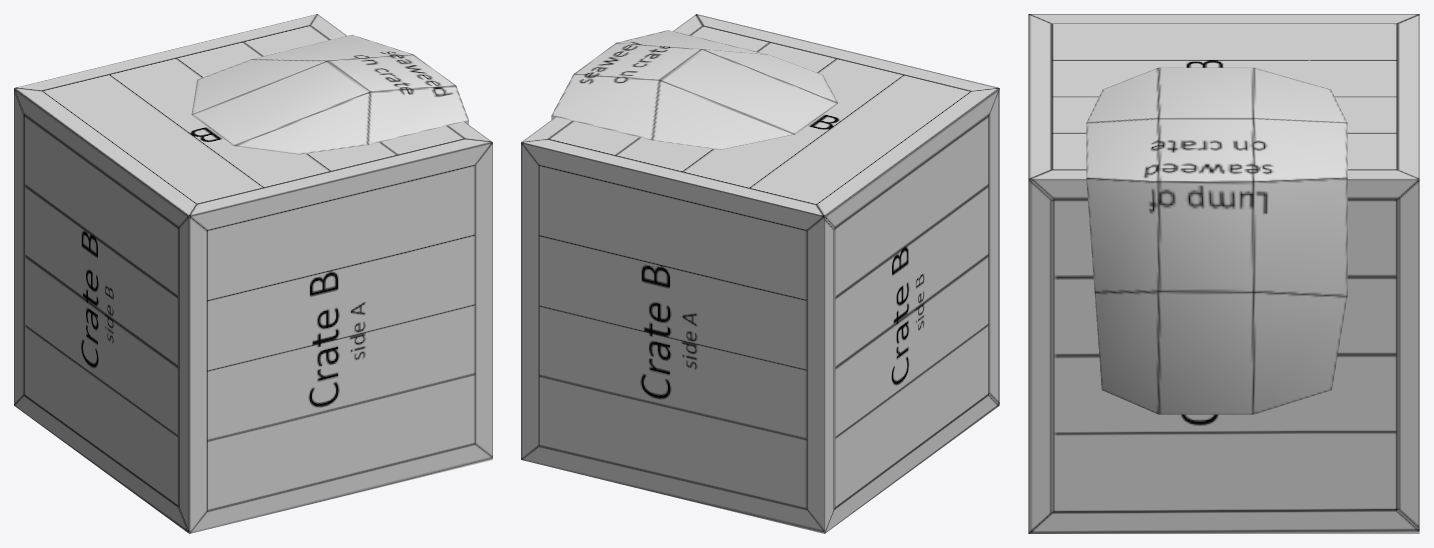
Rendered from Crate_seaweed01.fbx.
3 renders of one model, left to right at view 1: azimuth 30°, elevation 25°; view 2: azimuth 150°, elevation 25°; view 3: azimuth 270°, elevation 25°, orthographic. The views are drawn at different scales.
Parts seen in each view (by area): view 1: Crate_seaweed01; view 2: Crate_seaweed01; view 3: Crate_seaweed01.
Boxes of the visible parts, x1=… form: Crate_seaweed01: x1=14, y1=14, x2=492, y2=533; Crate_seaweed01: x1=521, y1=14, x2=999, y2=533; Crate_seaweed01: x1=1028, y1=14, x2=1419, y2=533.
Bounding box in the file's own units: 125 × 120 × 111.
Materials: 1 (1 with a texture image).
